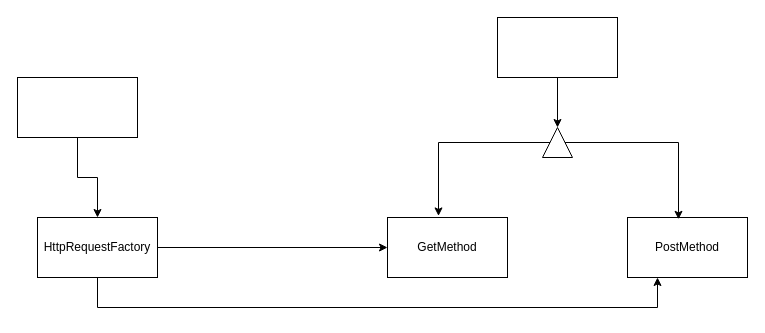
Image size: 765x333. Some labels were removed from this diagram. Here are the shapes that lost their labels. From the top down, the centre of each, then its label:
pixel 557 47: HttpRequest Interface
pixel 77 107: Cliente
